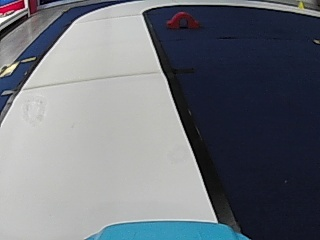bridge: (167, 10, 198, 29)
